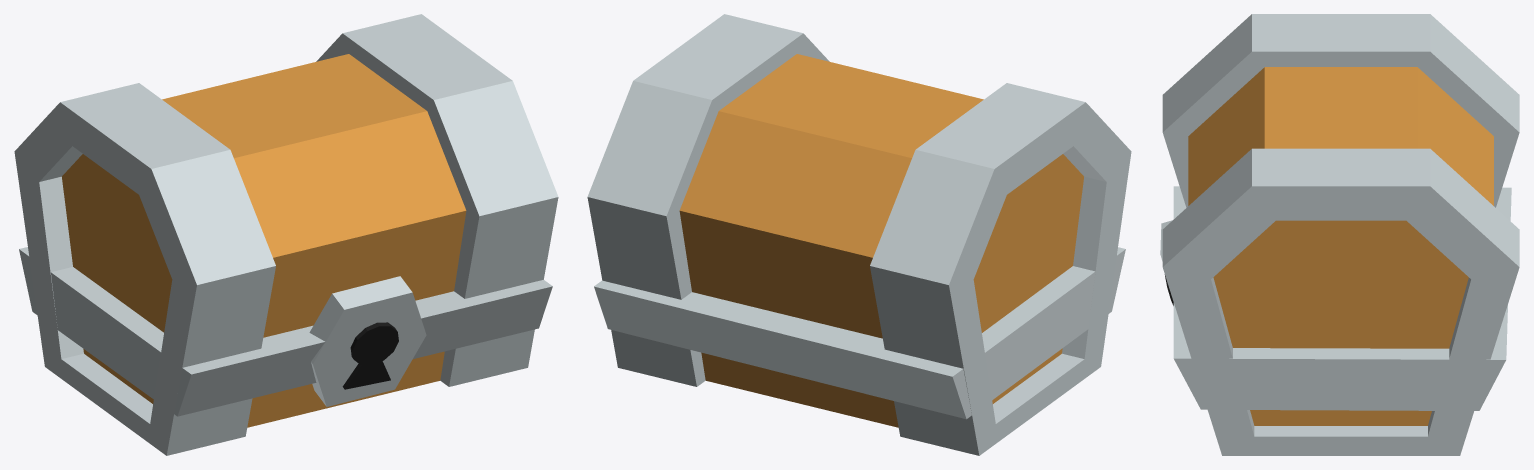
File: Chest.glb
The picture shows the model from 3 angles, left to right: view 1: azimuth 30°, elevation 25°; view 2: azimuth 150°, elevation 25°; view 3: azimuth 270°, elevation 25°; orthographic projection. The views are drawn at different scales.
Visible parts, largest first — view 1: group146139989, group1405631933, group35431481, group1690178524, group450042413; view 2: group146139989, group1405631933, group35431481, group1690178524; view 3: group146139989, group35431481, group1405631933, group1690178524.
Part boxes in pixels (bbox=[...]): group146139989: bbox=[62, 54, 466, 427]; group1405631933: bbox=[14, 83, 275, 455]; group35431481: bbox=[316, 14, 558, 386]; group1690178524: bbox=[19, 247, 552, 416]; group450042413: bbox=[309, 276, 426, 406]; group146139989: bbox=[679, 54, 1083, 427]; group1405631933: bbox=[870, 83, 1131, 455]; group35431481: bbox=[587, 14, 829, 386]; group1690178524: bbox=[594, 247, 1125, 419]; group146139989: bbox=[1188, 67, 1493, 425]; group35431481: bbox=[1162, 148, 1519, 455]; group1405631933: bbox=[1162, 14, 1519, 207]; group1690178524: bbox=[1173, 186, 1511, 410].
Size of the model in its own units: 0.1602 by 0.1167 by 0.1409.
